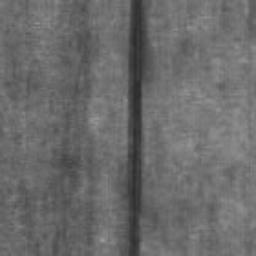Scratches: (127, 0, 147, 256)
